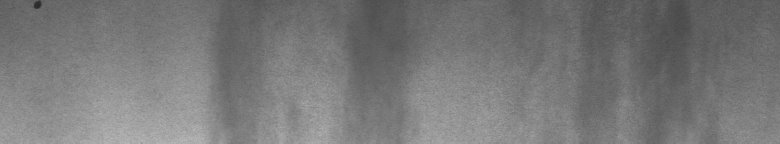fi: (27, 4, 44, 16)
